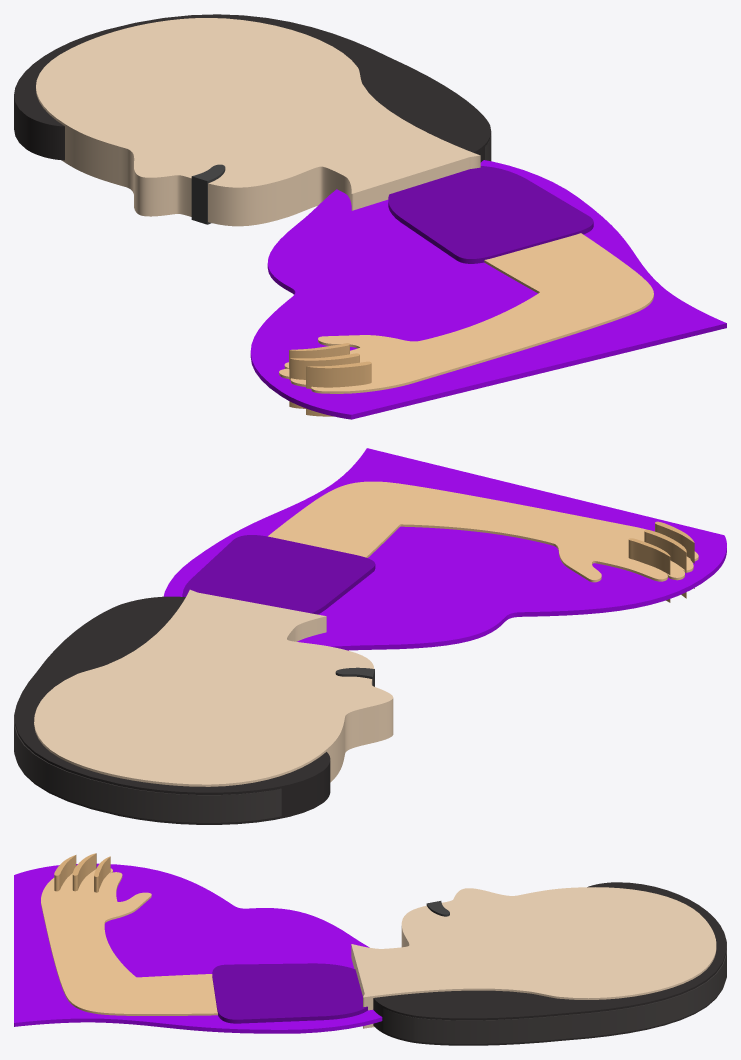
File: emoji_u1f930_1f3fb.glb
The picture shows the model from 3 angles, top to bottom: view 1: azimuth 30°, elevation 25°; view 2: azimuth 150°, elevation 25°; view 3: azimuth 270°, elevation 25°; orthographic projection. The views are drawn at different scales.
Parts seen in each view (by area): view 1: emoji_u1f930_1f3fb; view 2: emoji_u1f930_1f3fb; view 3: emoji_u1f930_1f3fb.
Boxes of the visible parts, left/top/right/bottom form: emoji_u1f930_1f3fb: left=14, top=14, right=726, bottom=419; emoji_u1f930_1f3fb: left=14, top=448, right=726, bottom=824; emoji_u1f930_1f3fb: left=14, top=853, right=726, bottom=1045.
Bounding box in the file's own units: 0.0183 × 0.002 × 0.0331.
